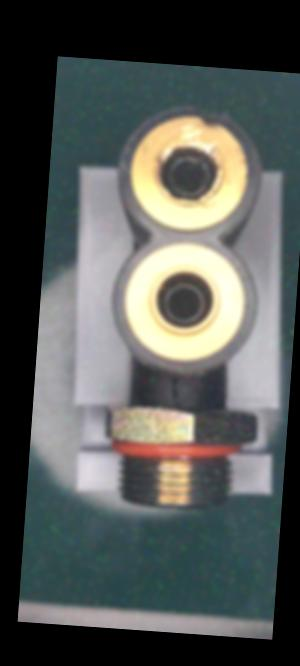bump: (187, 99, 231, 128)
craze: (165, 373, 188, 415)
